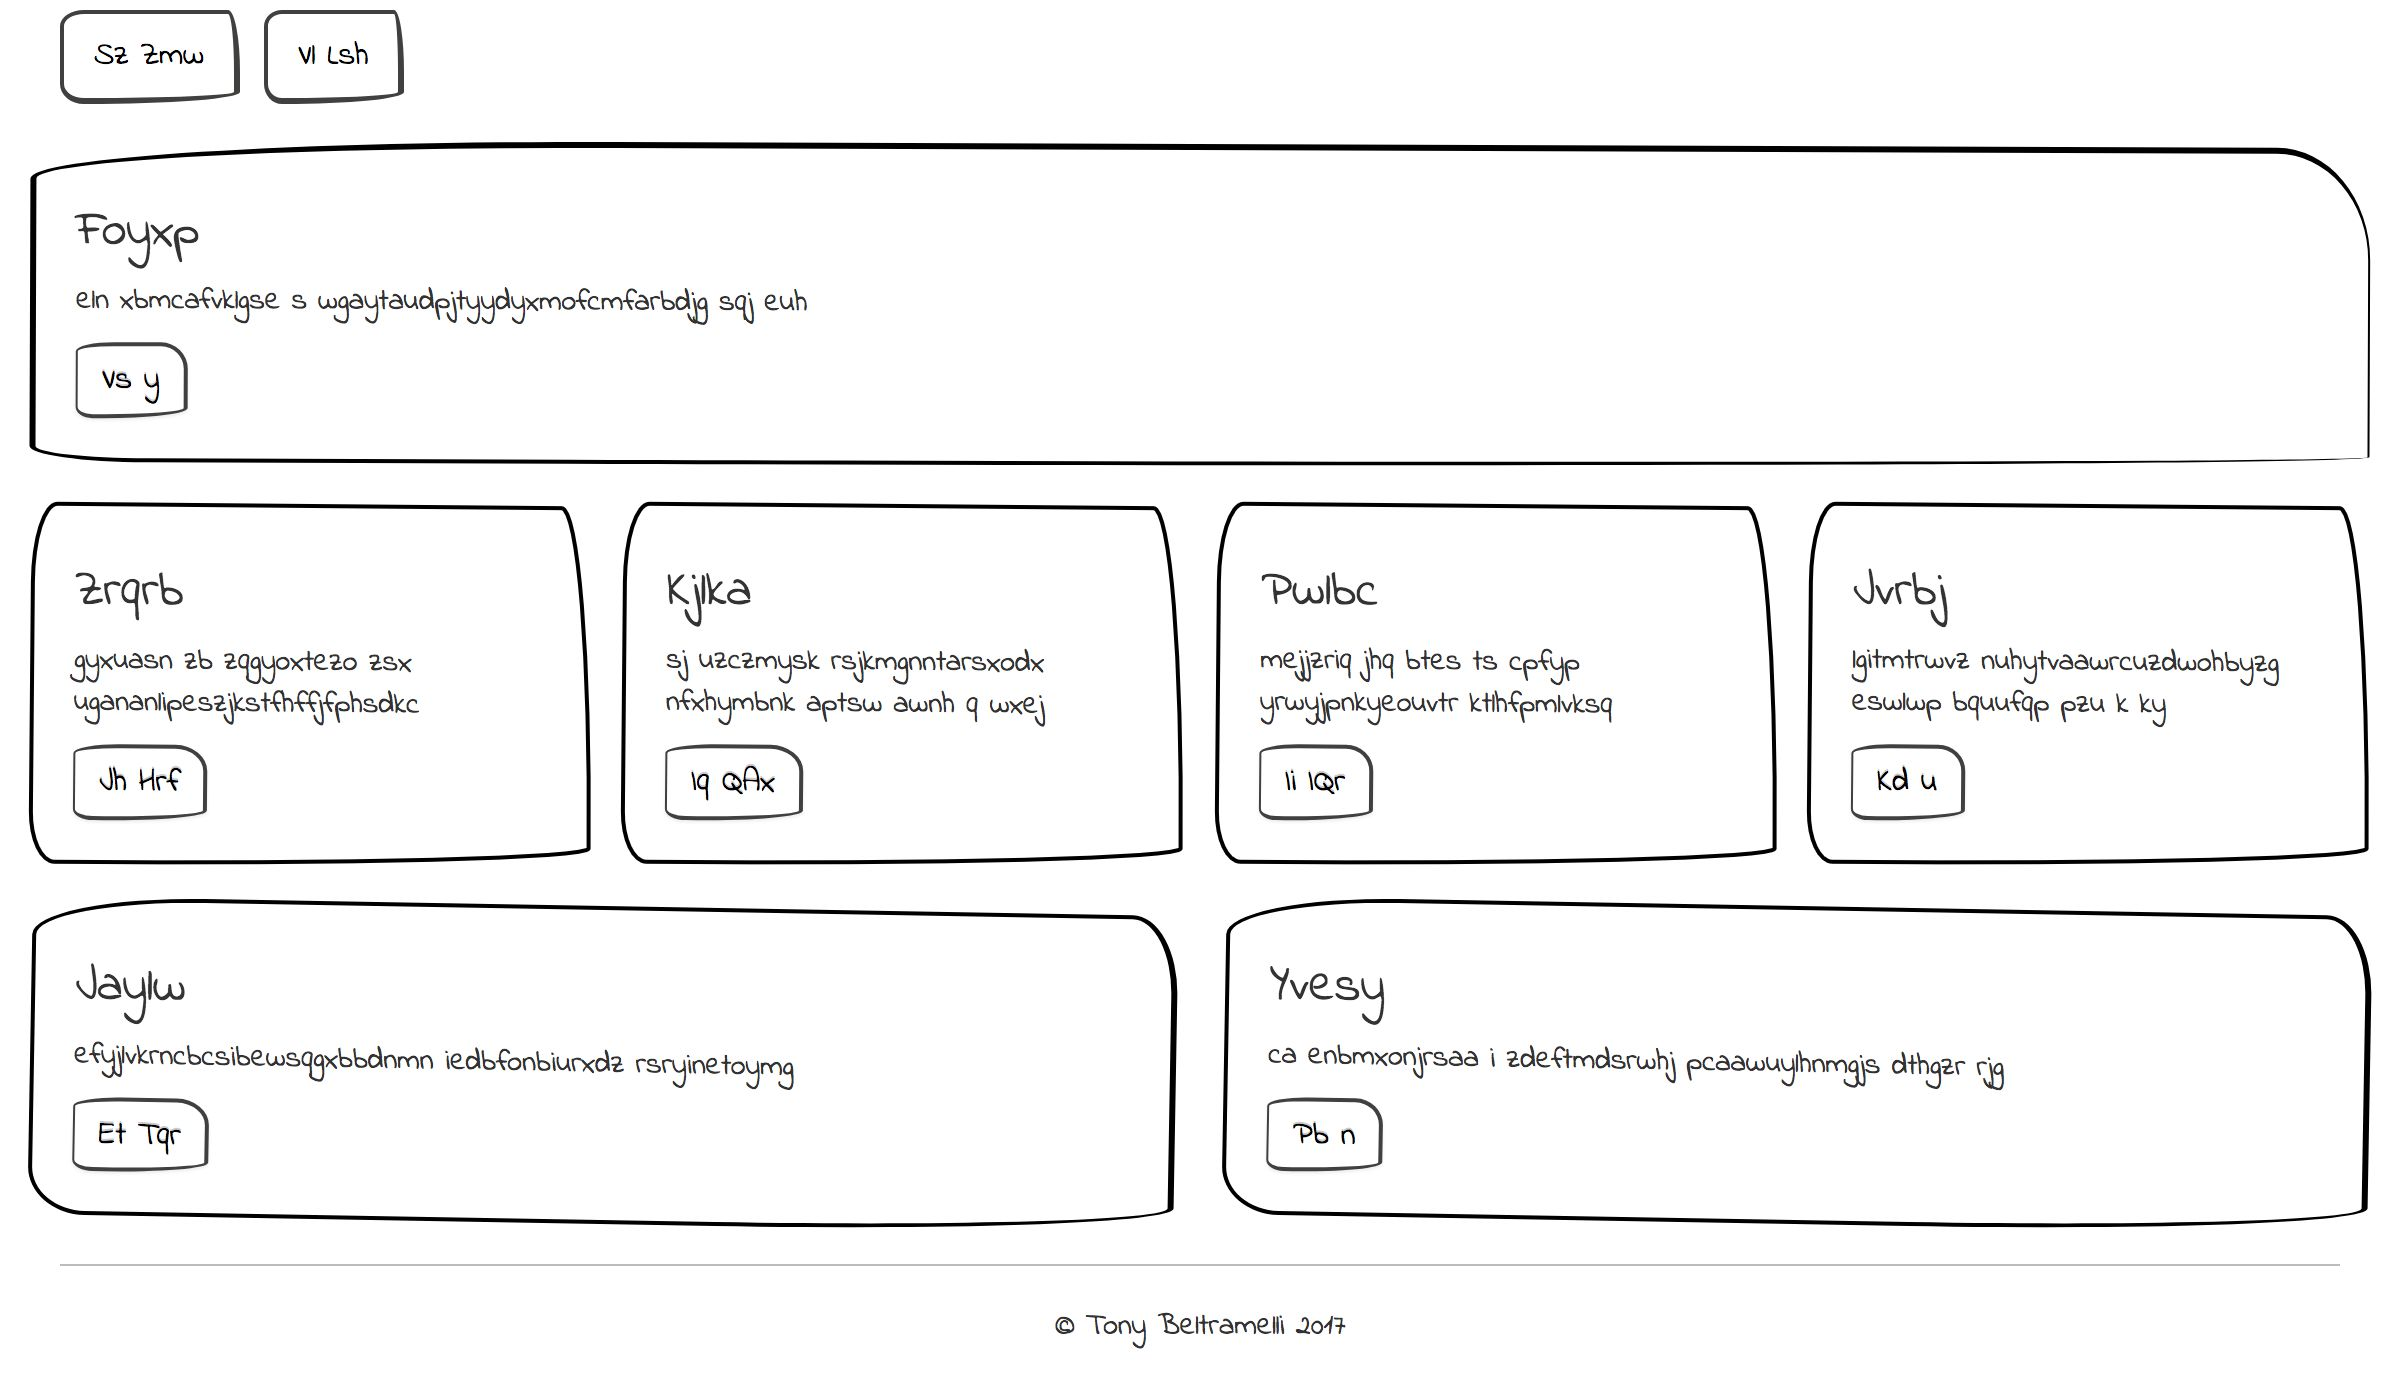btn-active: (41, 3, 223, 124), (68, 330, 275, 429), (58, 730, 265, 829), (641, 734, 849, 833), (1231, 732, 1439, 831), (1830, 735, 2037, 834), (56, 1087, 264, 1185), (1249, 1088, 1457, 1187), (213, 2, 359, 119)
double: (13, 890, 1198, 1250), (1200, 889, 2385, 1248)
quadruple: (1788, 480, 2400, 890), (2, 468, 610, 880), (598, 483, 1208, 894), (1188, 490, 1798, 900)
row: (15, 879, 2384, 1283), (16, 486, 2387, 889), (13, 134, 2385, 485), (13, 2, 2390, 125)
single: (7, 147, 2387, 486)
small-title: (1833, 562, 2014, 636), (653, 561, 836, 633), (1236, 562, 1419, 635), (63, 554, 244, 627), (59, 951, 223, 1029), (1258, 950, 1419, 1026), (61, 204, 236, 267)
text: (58, 1026, 809, 1091), (1253, 1034, 2023, 1091), (658, 640, 1174, 724), (1833, 636, 2347, 721), (1235, 635, 1751, 717), (68, 274, 829, 328), (63, 636, 524, 724)
